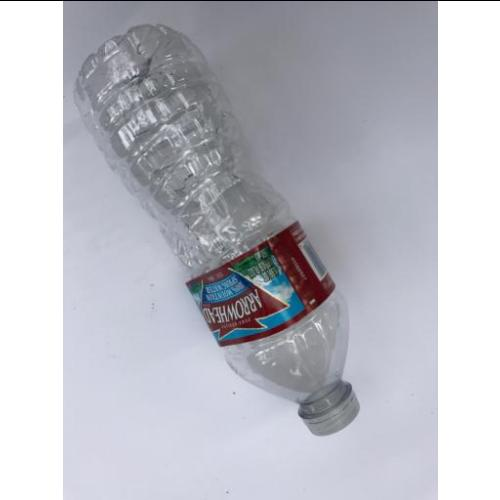plastic: (79, 24, 362, 436)
